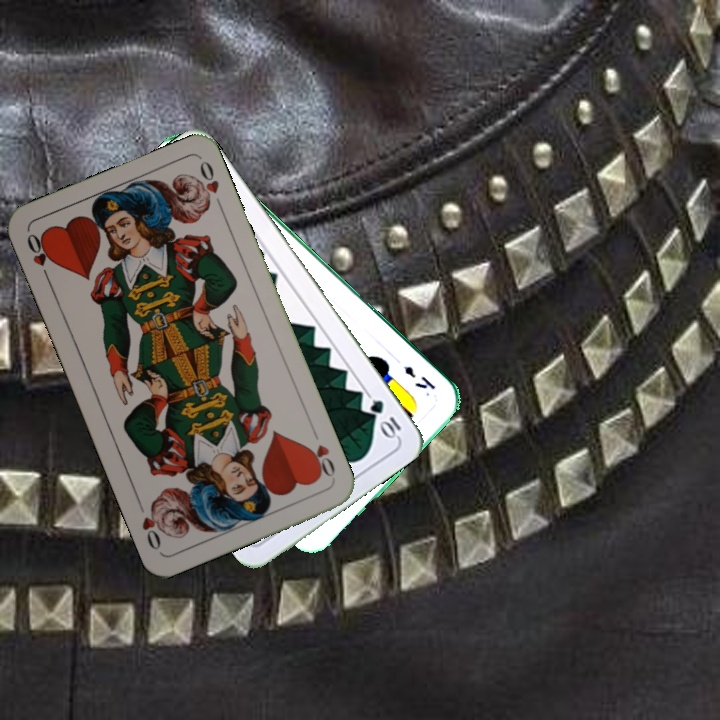EK: (400, 361, 438, 392)
G10: (365, 395, 404, 441)
HO: (303, 425, 338, 480), (23, 229, 55, 285)
